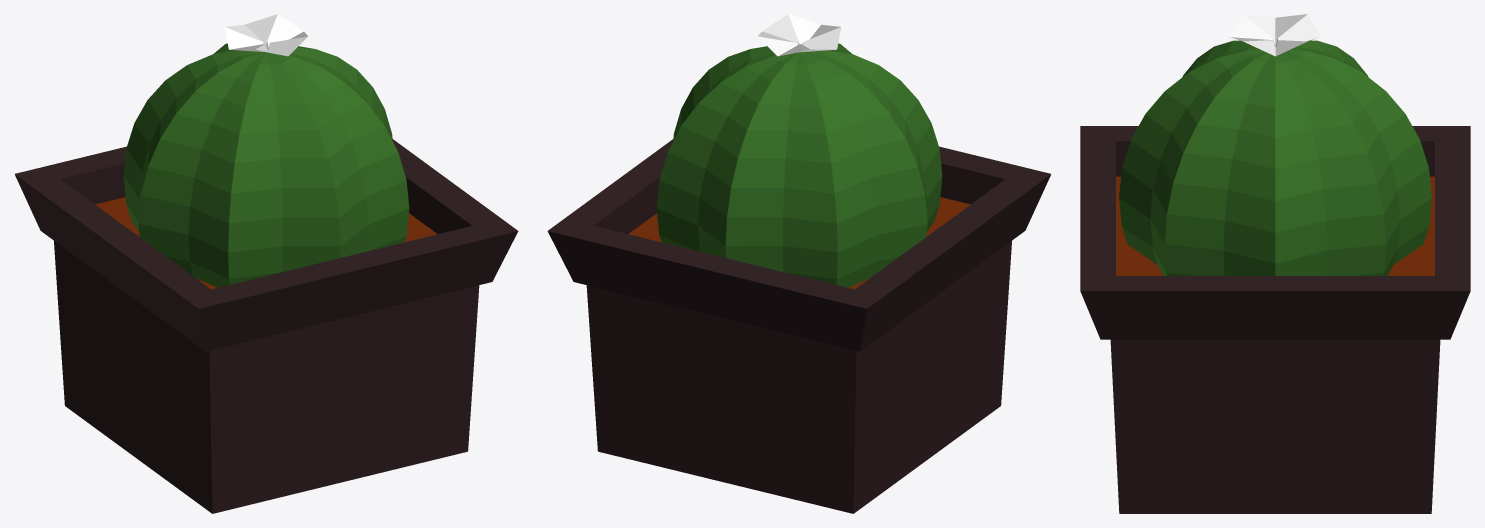
Rendered from Prop_Homeplant_04.fbx.
3 renders of one model, left to right at view 1: azimuth 30°, elevation 25°; view 2: azimuth 150°, elevation 25°; view 3: azimuth 270°, elevation 25°, orthographic. The views are drawn at different scales.
Parts seen in each view (by area): view 1: Prop_Homeplant_04; view 2: Prop_Homeplant_04; view 3: Prop_Homeplant_04.
Part boxes in pixels (x1,y1,x2,y2): Prop_Homeplant_04: (14,14,518,513); Prop_Homeplant_04: (547,14,1051,513); Prop_Homeplant_04: (1080,14,1470,513).
Size of the model in its own units: 23.36 by 27.74 by 23.36.
